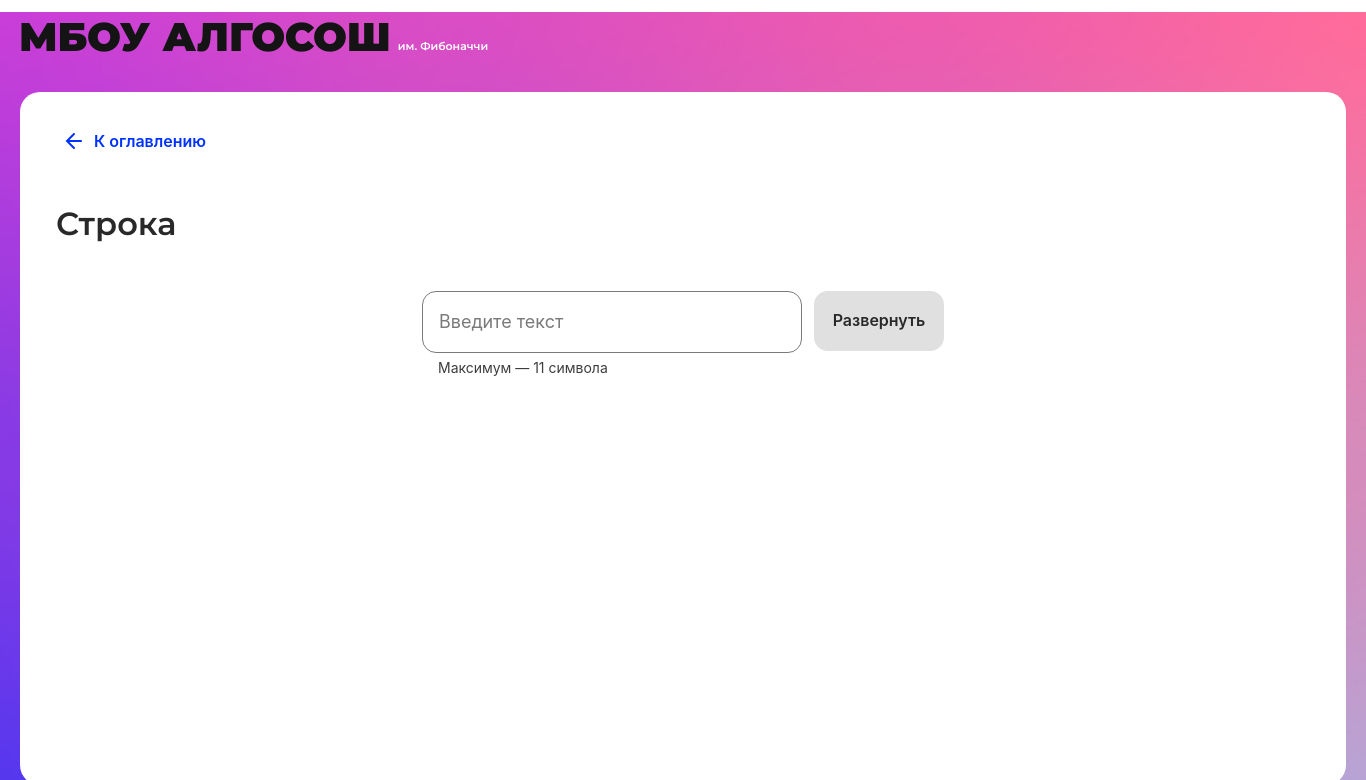
Test: String Component › should correctly expand a string with an odd number of characters
The image size is (1366, 780).
Type "abc" into the field with test id "input" at (612, 322), box [422, 291, 802, 353]
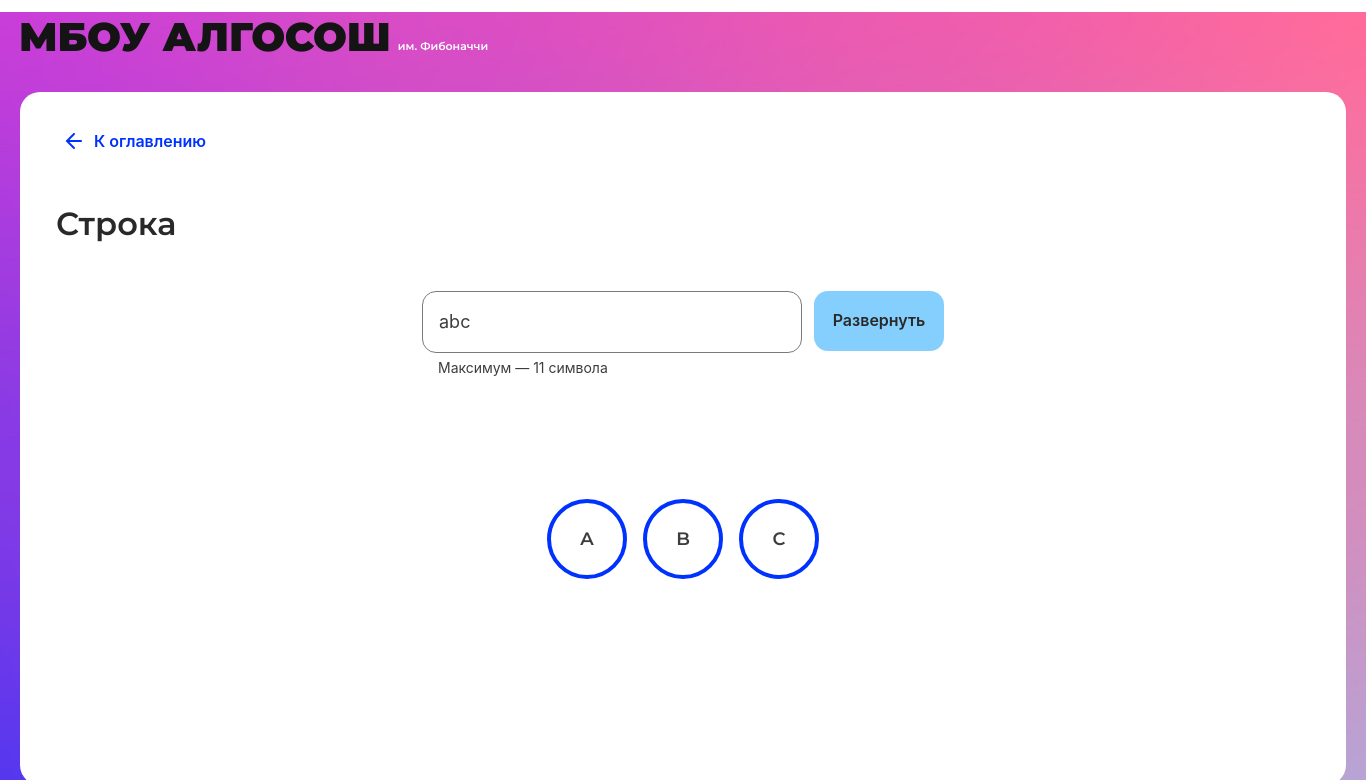
Click the button with test id "reverse-button" at (879, 321), box [814, 291, 944, 351]
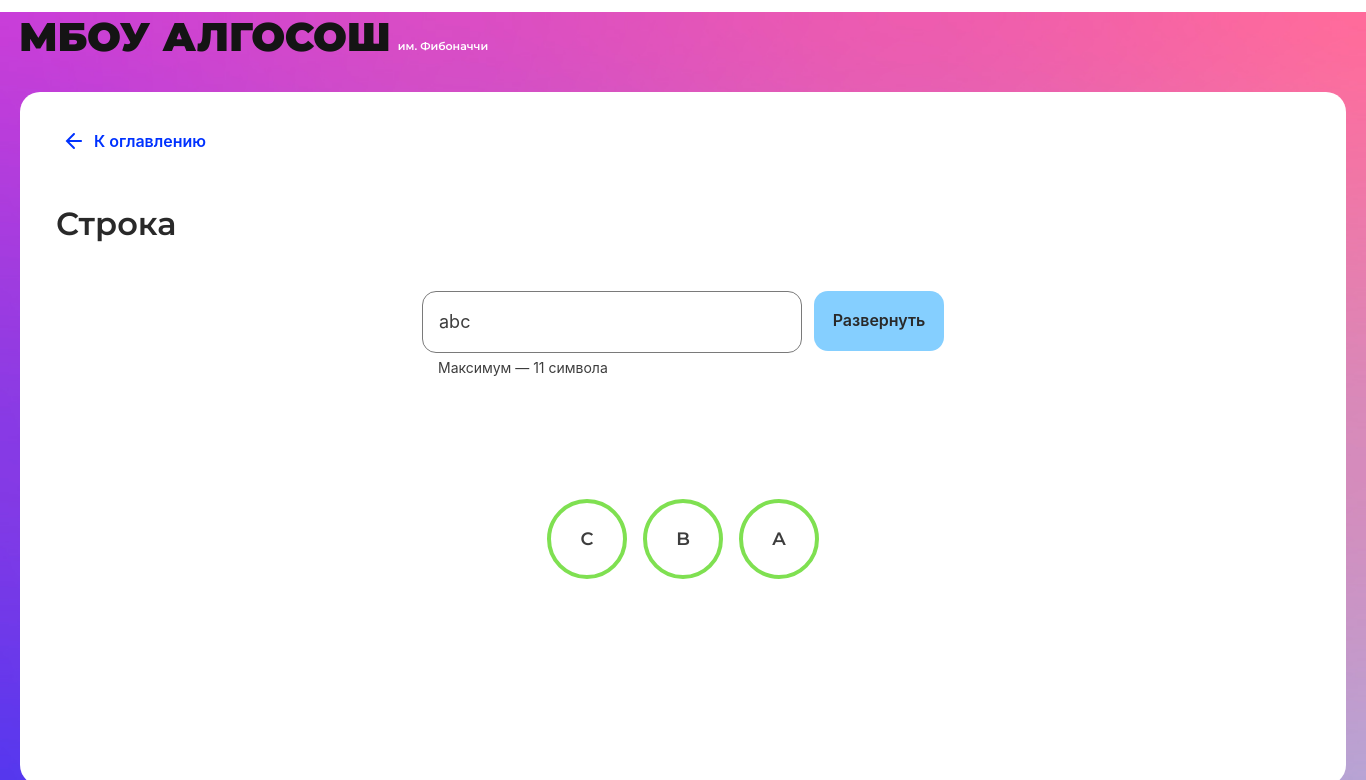
Expected: the element with test id "circle-1" reads "b", [676, 528, 690, 550]
Expected: the element with test id "circle-0" reads "c", [580, 528, 593, 550]
Expected: the element with test id "circle-2" reads "a", [772, 528, 786, 550]
